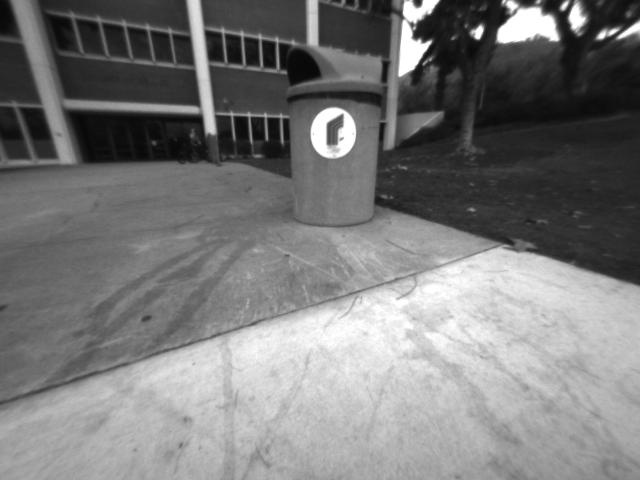trashcan: (275, 38, 389, 230)
